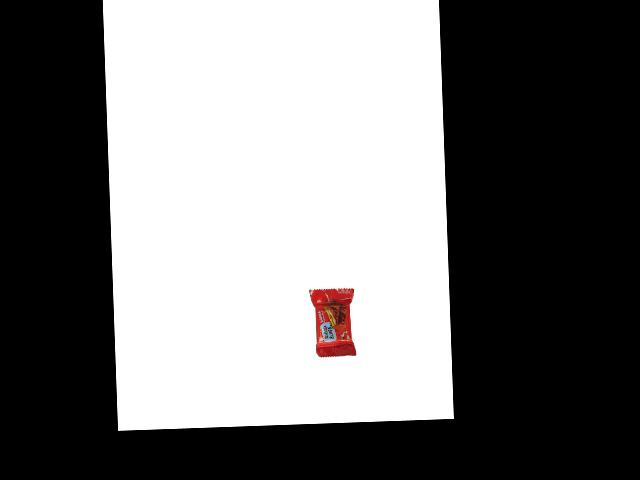chocolate: (304, 287, 355, 363)
